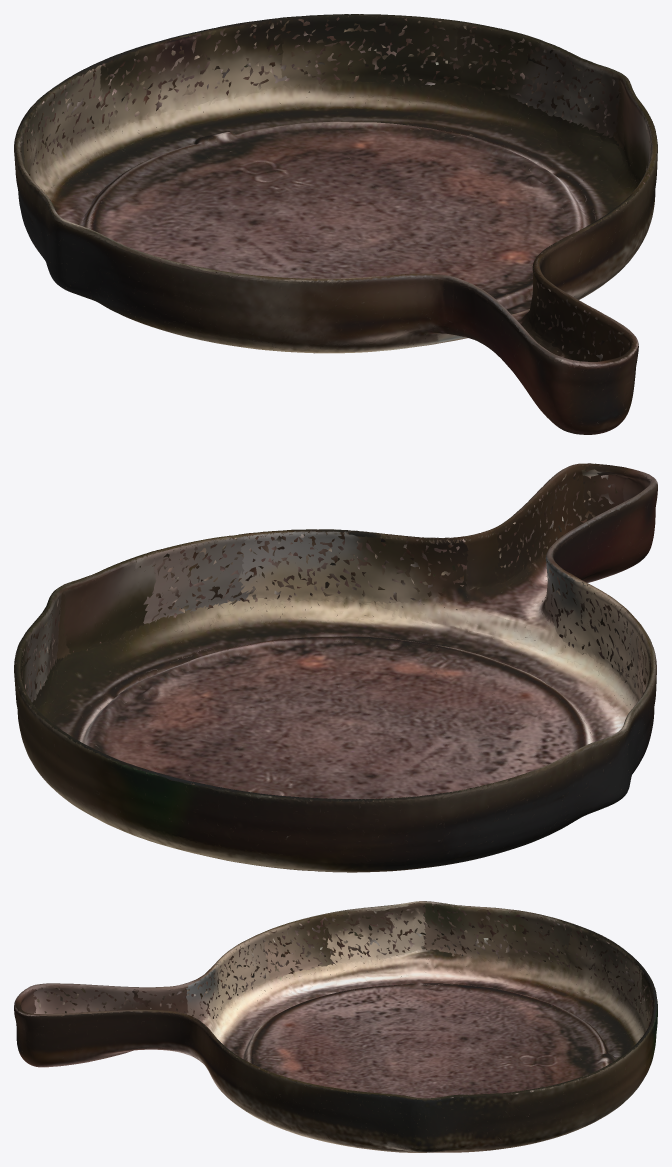
The model's file is pan-lux3d-pbr.glb.
3 views of the same model, one above another, from view 1: azimuth 30°, elevation 25°; view 2: azimuth 150°, elevation 25°; view 3: azimuth 270°, elevation 25° (orthographic). The views are drawn at different scales.
Visible parts, largest first — view 1: prototype_meters_centered; view 2: prototype_meters_centered; view 3: prototype_meters_centered.
Boxes of the visible parts, box(x1,y1,x2,y2) form: prototype_meters_centered: box(14, 14, 657, 434); prototype_meters_centered: box(14, 463, 657, 872); prototype_meters_centered: box(14, 901, 657, 1152).
Size of the model in its own units: 0.285 by 0.0469 by 0.38.
Materials: 1 (1 with a texture image).
